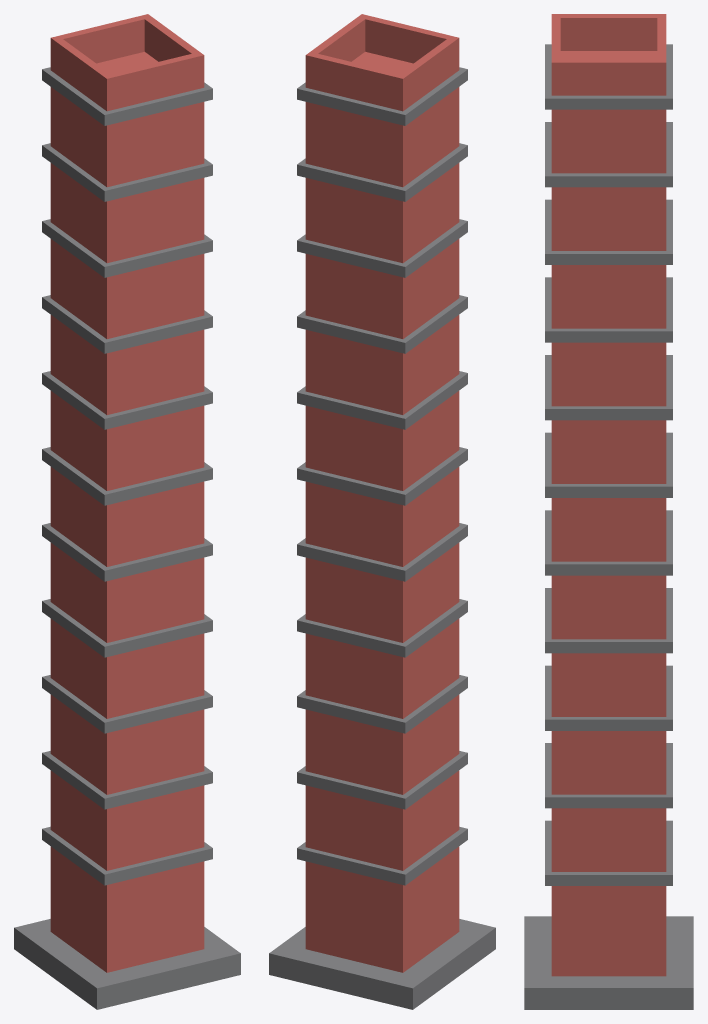
The model's file is Skyscraper2.fbx.
3 renders of one model, left to right at view 1: azimuth 30°, elevation 25°; view 2: azimuth 150°, elevation 25°; view 3: azimuth 270°, elevation 25°, orthographic. The views are drawn at different scales.
Visible parts, largest first — view 1: Skyscraper2; view 2: Skyscraper2; view 3: Skyscraper2.
Part boxes in pixels (box(x1,y1,x2,y2)): Skyscraper2: box(14, 14, 240, 1009); Skyscraper2: box(269, 14, 495, 1009); Skyscraper2: box(524, 14, 693, 1009).
Size of the model in its own units: 2472 by 15049 by 2472.
